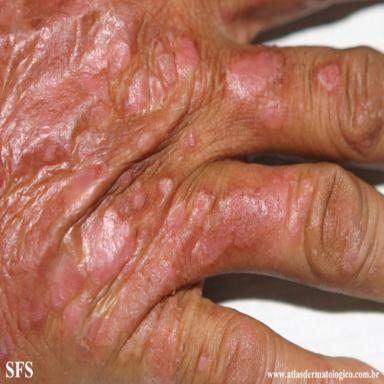Psoriasis: (0, 0, 308, 377), (223, 45, 289, 131), (340, 213, 363, 278), (312, 62, 340, 94), (197, 346, 212, 372)
